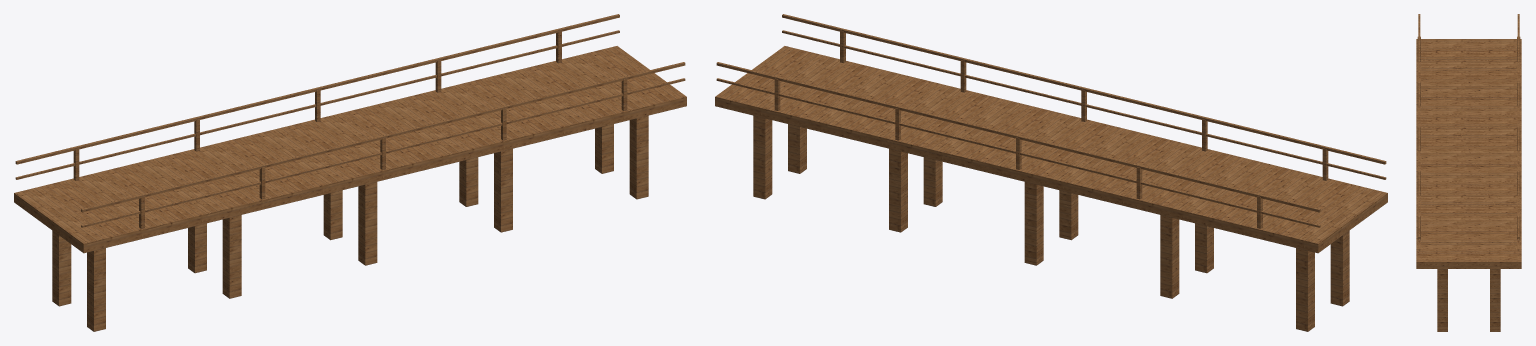
The model's file is bridge_wood.glb.
3 renders of one model, left to right at view 1: azimuth 30°, elevation 25°; view 2: azimuth 150°, elevation 25°; view 3: azimuth 270°, elevation 25°, orthographic. The views are drawn at different scales.
Visible parts, largest first — view 1: BridgeWood; view 2: BridgeWood; view 3: BridgeWood.
Part boxes in pixels (box(x1,y1,x2,y2)): BridgeWood: box(14, 14, 686, 331); BridgeWood: box(715, 14, 1387, 331); BridgeWood: box(1416, 14, 1521, 331).
Bounding box in the file's own units: 20 × 4.34 × 4.
Materials: 1 (1 with a texture image).
